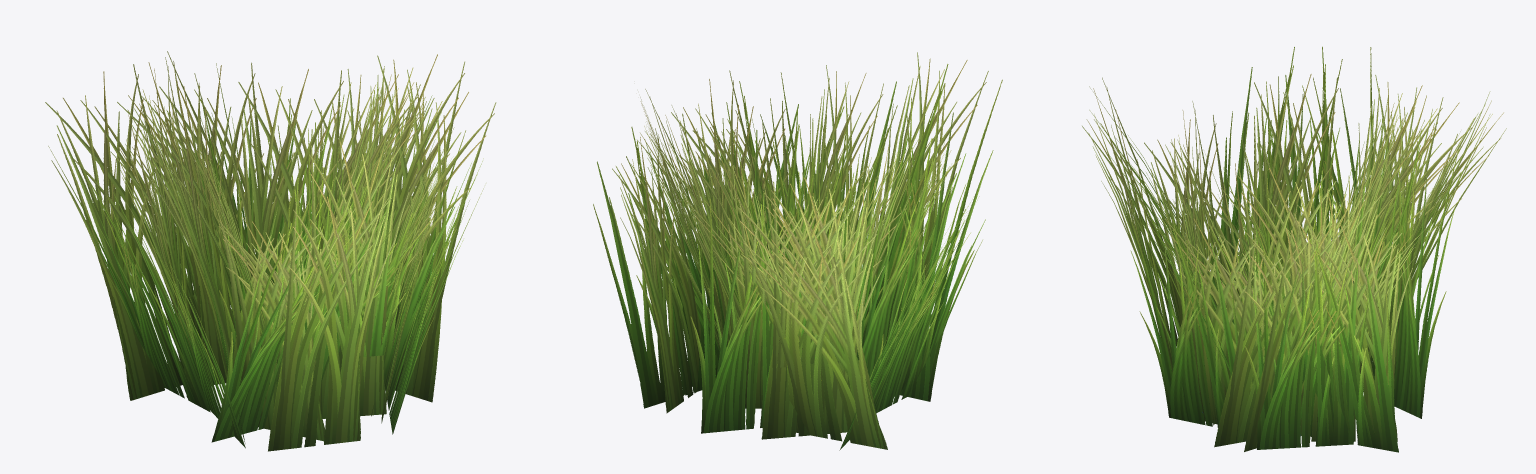
Rendered from Grass_TallHiding_A.fbx.
The picture shows the model from 3 angles, left to right: view 1: azimuth 30°, elevation 25°; view 2: azimuth 150°, elevation 25°; view 3: azimuth 270°, elevation 25°; orthographic projection. The views are drawn at different scales.
Visible parts, largest first — view 1: Grass_TallHiding_A_LOD0; view 2: Grass_TallHiding_A_LOD0; view 3: Grass_TallHiding_A_LOD0.
Boxes of the visible parts, x1,y1,x2,y2 form: Grass_TallHiding_A_LOD0: (45, 51, 496, 451); Grass_TallHiding_A_LOD0: (593, 52, 1002, 450); Grass_TallHiding_A_LOD0: (1082, 46, 1506, 452).
Size of what is drawn, in the model's own units: 1.99 by 1.44 by 1.96.
